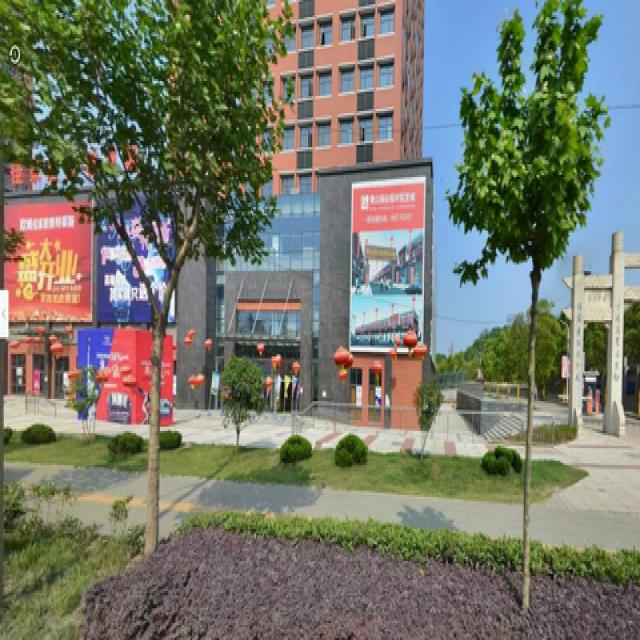meta: (467, 2, 597, 608)
